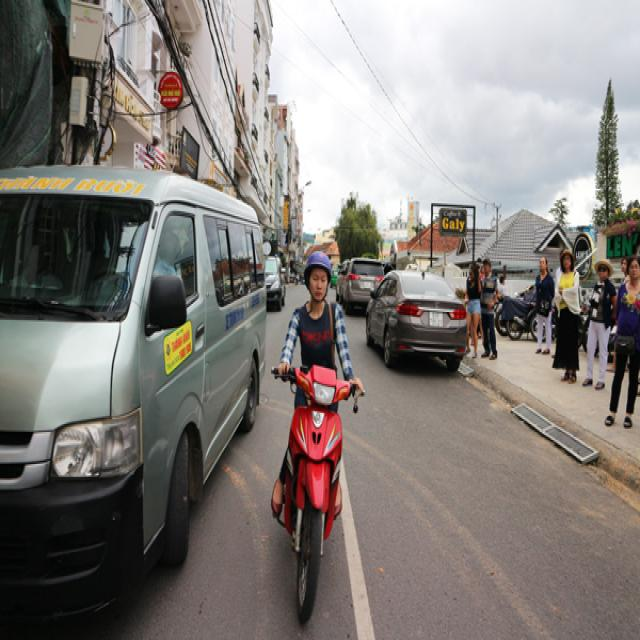helmet: (304, 251, 331, 275)
